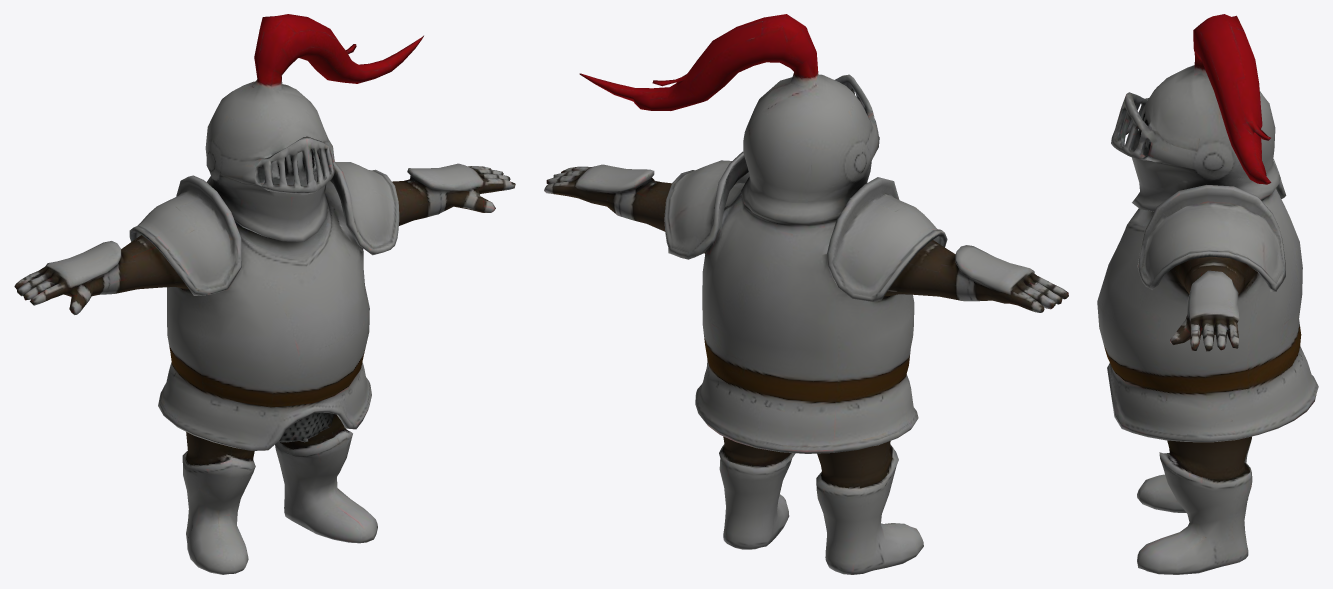
File: knight.glb
3 views of the same model, side by side, from view 1: azimuth 30°, elevation 25°; view 2: azimuth 150°, elevation 25°; view 3: azimuth 270°, elevation 25° (orthographic). The views are drawn at different scales.
Visible parts, largest first — view 1: tripo_node_892f0a1d-f2dd-4183-833e-68de37a15a3f; view 2: tripo_node_892f0a1d-f2dd-4183-833e-68de37a15a3f; view 3: tripo_node_892f0a1d-f2dd-4183-833e-68de37a15a3f.
Boxes of the visible parts, x1=… form: tripo_node_892f0a1d-f2dd-4183-833e-68de37a15a3f: x1=14, y1=14, x2=515, y2=574; tripo_node_892f0a1d-f2dd-4183-833e-68de37a15a3f: x1=544, y1=14, x2=1068, y2=574; tripo_node_892f0a1d-f2dd-4183-833e-68de37a15a3f: x1=1097, y1=14, x2=1318, y2=574.
Size of the model in its own units: 0.9944 by 0.9935 by 0.3798.
Materials: 1 (1 with a texture image).
